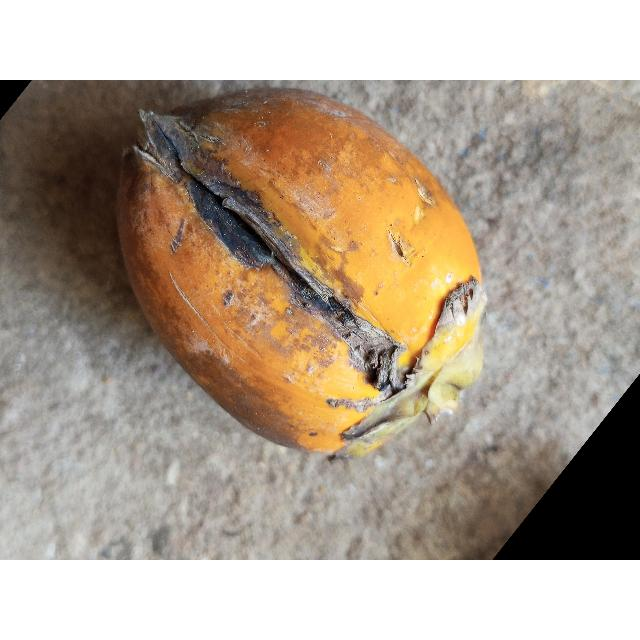damaged: (115, 88, 488, 460)
